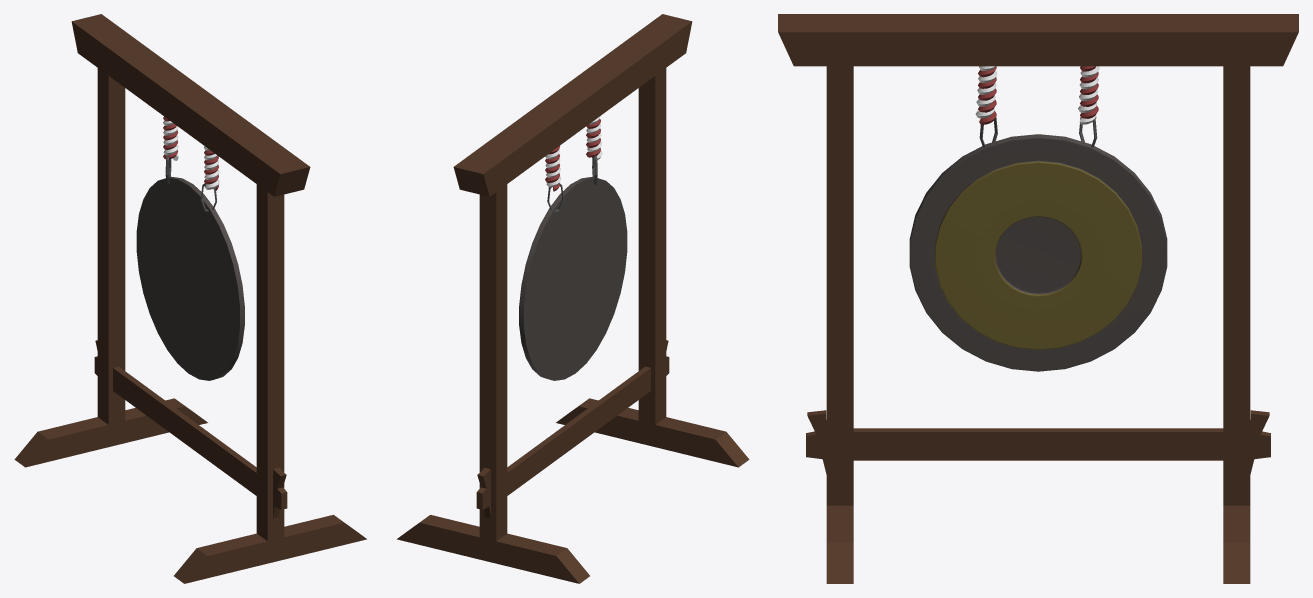
The model's file is Gong_Model.fbx.
3 views of the same model, side by side, from view 1: azimuth 30°, elevation 25°; view 2: azimuth 150°, elevation 25°; view 3: azimuth 270°, elevation 25° (orthographic). The views are drawn at different scales.
Parts seen in each view (by area): view 1: pCube1, pCylinder1; view 2: pCube1, pCylinder1; view 3: pCube1, pCylinder1.
Part boxes in pixels (x1,y1,x2,y2): pCube1: (14,14,366,583); pCylinder1: (136,176,244,380); pCube1: (397,14,749,583); pCylinder1: (519,176,627,380); pCube1: (778,14,1298,583); pCylinder1: (909,134,1167,371).
Size of the model in its own units: 10.99 by 23.24 by 21.71.
